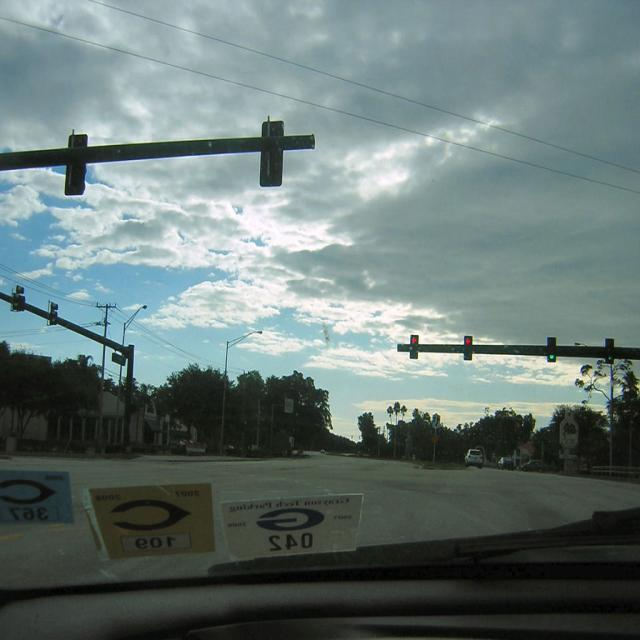traffic light: (464, 335, 473, 361), (409, 335, 419, 358), (605, 339, 614, 364), (548, 337, 557, 360)
